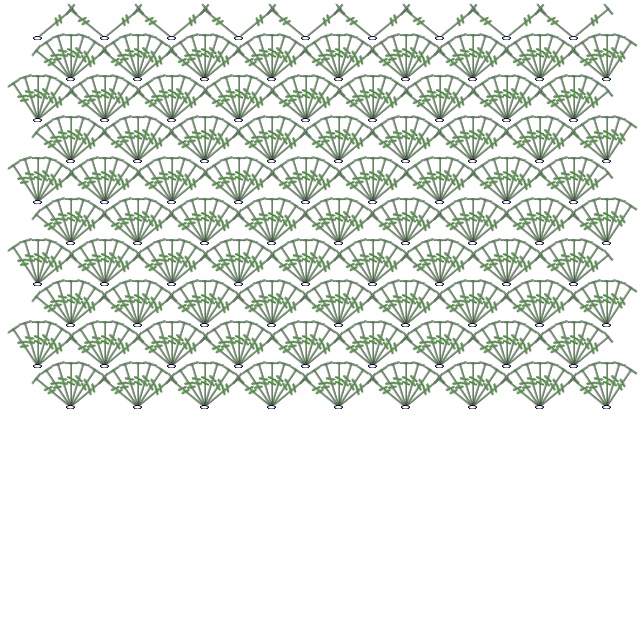chain: (32, 34, 44, 42), (166, 34, 178, 42), (300, 34, 312, 42), (434, 34, 446, 42), (568, 34, 580, 42), (132, 75, 144, 83), (266, 75, 278, 83), (400, 75, 412, 83), (534, 75, 546, 83), (32, 116, 44, 124), (166, 116, 178, 124), (300, 116, 312, 124), (434, 116, 446, 124), (568, 116, 580, 124), (132, 157, 144, 165), (266, 157, 278, 165), (400, 157, 412, 165), (534, 157, 546, 165), (32, 198, 44, 206), (166, 198, 178, 206), (300, 198, 312, 206), (434, 198, 446, 206), (568, 198, 580, 206), (132, 239, 144, 247), (266, 239, 278, 247), (400, 239, 412, 247), (534, 239, 546, 247), (32, 280, 44, 288), (166, 280, 178, 288), (300, 280, 312, 288), (434, 280, 446, 288), (568, 280, 580, 288), (132, 321, 144, 329), (266, 321, 278, 329), (400, 321, 412, 329), (534, 321, 546, 329), (32, 362, 44, 370), (166, 362, 178, 370), (300, 362, 312, 370), (434, 362, 446, 370), (568, 362, 580, 370), (132, 403, 144, 411), (266, 403, 278, 411), (400, 403, 412, 411), (534, 403, 546, 411), (100, 34, 110, 42), (234, 34, 244, 42), (368, 34, 378, 42), (502, 34, 512, 42), (66, 75, 76, 83), (200, 75, 210, 83), (334, 75, 344, 83), (468, 75, 478, 83), (602, 75, 612, 83), (100, 116, 110, 124), (234, 116, 244, 124), (368, 116, 378, 124), (502, 116, 512, 124), (66, 157, 76, 165), (200, 157, 210, 165), (334, 157, 344, 165), (468, 157, 478, 165), (602, 157, 612, 165), (100, 198, 110, 206), (234, 198, 244, 206), (368, 198, 378, 206), (502, 198, 512, 206), (66, 239, 76, 247), (200, 239, 210, 247), (334, 239, 344, 247), (468, 239, 478, 247), (602, 239, 612, 247), (100, 280, 110, 288), (234, 280, 244, 288), (368, 280, 378, 288), (502, 280, 512, 288), (66, 321, 76, 329), (200, 321, 210, 329), (334, 321, 344, 329), (468, 321, 478, 329), (602, 321, 612, 329), (100, 362, 110, 370), (234, 362, 244, 370), (368, 362, 378, 370), (502, 362, 512, 370), (66, 403, 76, 411), (200, 403, 210, 411), (334, 403, 344, 411), (468, 403, 478, 411), (602, 403, 612, 411)
fan: (33, 3, 79, 44), (64, 3, 110, 44), (100, 3, 146, 44), (131, 3, 177, 44), (167, 3, 213, 44), (198, 3, 244, 44), (234, 3, 280, 44), (265, 3, 311, 44), (301, 3, 347, 44), (332, 3, 378, 44), (368, 3, 414, 44), (399, 3, 445, 44), (435, 3, 481, 44), (466, 3, 512, 44), (502, 3, 548, 44), (533, 3, 579, 44), (569, 3, 615, 44), (30, 44, 76, 85), (66, 44, 112, 85), (97, 44, 143, 85), (133, 44, 179, 85), (164, 44, 210, 85), (200, 44, 246, 85), (231, 44, 277, 85), (267, 44, 313, 85), (298, 44, 344, 85), (334, 44, 380, 85), (365, 44, 411, 85), (401, 44, 447, 85), (432, 44, 478, 85), (468, 44, 514, 85), (499, 44, 545, 85), (535, 44, 581, 85), (566, 44, 612, 85), (33, 85, 79, 126), (64, 85, 110, 126), (100, 85, 146, 126), (131, 85, 177, 126), (167, 85, 213, 126), (198, 85, 244, 126), (234, 85, 280, 126), (265, 85, 311, 126), (301, 85, 347, 126), (332, 85, 378, 126), (368, 85, 414, 126), (399, 85, 445, 126), (435, 85, 481, 126), (466, 85, 512, 126), (502, 85, 548, 126), (533, 85, 579, 126), (569, 85, 615, 126), (30, 126, 76, 167), (66, 126, 112, 167), (97, 126, 143, 167), (133, 126, 179, 167), (164, 126, 210, 167), (200, 126, 246, 167), (231, 126, 277, 167), (267, 126, 313, 167), (298, 126, 344, 167), (334, 126, 380, 167), (365, 126, 411, 167), (401, 126, 447, 167), (432, 126, 478, 167), (468, 126, 514, 167), (499, 126, 545, 167), (535, 126, 581, 167), (566, 126, 612, 167), (33, 167, 79, 208), (64, 167, 110, 208), (100, 167, 146, 208), (131, 167, 177, 208), (167, 167, 213, 208), (198, 167, 244, 208), (234, 167, 280, 208), (265, 167, 311, 208), (301, 167, 347, 208), (332, 167, 378, 208), (368, 167, 414, 208), (399, 167, 445, 208), (435, 167, 481, 208), (466, 167, 512, 208), (502, 167, 548, 208), (533, 167, 579, 208), (569, 167, 615, 208), (30, 208, 76, 249), (66, 208, 112, 249), (97, 208, 143, 249), (133, 208, 179, 249), (164, 208, 210, 249), (200, 208, 246, 249), (231, 208, 277, 249), (267, 208, 313, 249), (298, 208, 344, 249), (334, 208, 380, 249), (365, 208, 411, 249), (401, 208, 447, 249), (432, 208, 478, 249), (468, 208, 514, 249), (499, 208, 545, 249), (535, 208, 581, 249), (566, 208, 612, 249), (33, 249, 79, 290), (64, 249, 110, 290), (100, 249, 146, 290), (131, 249, 177, 290), (167, 249, 213, 290), (198, 249, 244, 290), (234, 249, 280, 290), (265, 249, 311, 290), (301, 249, 347, 290), (332, 249, 378, 290), (368, 249, 414, 290), (399, 249, 445, 290), (435, 249, 481, 290), (466, 249, 512, 290), (502, 249, 548, 290), (533, 249, 579, 290), (569, 249, 615, 290), (30, 290, 76, 331), (66, 290, 112, 331), (97, 290, 143, 331), (133, 290, 179, 331), (164, 290, 210, 331), (200, 290, 246, 331), (231, 290, 277, 331), (267, 290, 313, 331), (298, 290, 344, 331), (334, 290, 380, 331), (365, 290, 411, 331), (401, 290, 447, 331), (432, 290, 478, 331), (468, 290, 514, 331), (499, 290, 545, 331), (535, 290, 581, 331), (566, 290, 612, 331), (33, 331, 79, 372), (64, 331, 110, 372), (100, 331, 146, 372), (131, 331, 177, 372), (167, 331, 213, 372), (198, 331, 244, 372), (234, 331, 280, 372), (265, 331, 311, 372), (301, 331, 347, 372), (332, 331, 378, 372), (368, 331, 414, 372), (399, 331, 445, 372), (435, 331, 481, 372), (466, 331, 512, 372), (502, 331, 548, 372), (533, 331, 579, 372), (569, 331, 615, 372), (30, 372, 76, 413), (66, 372, 112, 413), (97, 372, 143, 413), (133, 372, 179, 413), (164, 372, 210, 413), (200, 372, 246, 413), (231, 372, 277, 413), (267, 372, 313, 413), (298, 372, 344, 413), (334, 372, 380, 413), (365, 372, 411, 413), (401, 372, 447, 413), (432, 372, 478, 413), (468, 372, 514, 413), (499, 372, 545, 413), (535, 372, 581, 413), (566, 372, 612, 413), (39, 36, 78, 83), (64, 36, 103, 83), (106, 36, 145, 83), (131, 36, 170, 83), (173, 36, 212, 83), (198, 36, 237, 83), (240, 36, 279, 83), (265, 36, 304, 83), (307, 36, 346, 83), (332, 36, 371, 83), (374, 36, 413, 83), (399, 36, 438, 83), (441, 36, 480, 83), (466, 36, 505, 83), (508, 36, 547, 83), (533, 36, 572, 83), (575, 36, 614, 83), (600, 36, 639, 83), (6, 77, 45, 124), (31, 77, 70, 124), (73, 77, 112, 124), (98, 77, 137, 124), (140, 77, 179, 124), (165, 77, 204, 124), (207, 77, 246, 124), (232, 77, 271, 124), (274, 77, 313, 124), (299, 77, 338, 124), (341, 77, 380, 124), (366, 77, 405, 124), (408, 77, 447, 124), (433, 77, 472, 124), (475, 77, 514, 124), (500, 77, 539, 124), (542, 77, 581, 124), (567, 77, 606, 124), (39, 118, 78, 165), (64, 118, 103, 165), (106, 118, 145, 165), (131, 118, 170, 165), (173, 118, 212, 165), (198, 118, 237, 165), (240, 118, 279, 165), (265, 118, 304, 165), (307, 118, 346, 165), (332, 118, 371, 165), (374, 118, 413, 165), (399, 118, 438, 165), (441, 118, 480, 165), (466, 118, 505, 165), (508, 118, 547, 165), (533, 118, 572, 165), (575, 118, 614, 165), (600, 118, 639, 165), (6, 159, 45, 206), (31, 159, 70, 206), (73, 159, 112, 206), (98, 159, 137, 206), (140, 159, 179, 206), (165, 159, 204, 206), (207, 159, 246, 206), (232, 159, 271, 206), (274, 159, 313, 206), (299, 159, 338, 206), (341, 159, 380, 206), (366, 159, 405, 206), (408, 159, 447, 206), (433, 159, 472, 206), (475, 159, 514, 206), (500, 159, 539, 206), (542, 159, 581, 206), (567, 159, 606, 206), (39, 200, 78, 247), (64, 200, 103, 247), (106, 200, 145, 247), (131, 200, 170, 247), (173, 200, 212, 247), (198, 200, 237, 247), (240, 200, 279, 247), (265, 200, 304, 247), (307, 200, 346, 247), (332, 200, 371, 247), (374, 200, 413, 247), (399, 200, 438, 247), (441, 200, 480, 247), (466, 200, 505, 247), (508, 200, 547, 247), (533, 200, 572, 247), (575, 200, 614, 247), (600, 200, 639, 247), (6, 241, 45, 288), (31, 241, 70, 288), (73, 241, 112, 288), (98, 241, 137, 288), (140, 241, 179, 288), (165, 241, 204, 288), (207, 241, 246, 288), (232, 241, 271, 288), (274, 241, 313, 288), (299, 241, 338, 288), (341, 241, 380, 288), (366, 241, 405, 288), (408, 241, 447, 288), (433, 241, 472, 288), (475, 241, 514, 288), (500, 241, 539, 288), (542, 241, 581, 288), (567, 241, 606, 288), (39, 282, 78, 329), (64, 282, 103, 329), (106, 282, 145, 329), (131, 282, 170, 329), (173, 282, 212, 329), (198, 282, 237, 329), (240, 282, 279, 329), (265, 282, 304, 329), (307, 282, 346, 329), (332, 282, 371, 329), (374, 282, 413, 329), (399, 282, 438, 329), (441, 282, 480, 329), (466, 282, 505, 329), (508, 282, 547, 329), (533, 282, 572, 329), (575, 282, 614, 329), (600, 282, 639, 329), (6, 323, 45, 370), (31, 323, 70, 370), (73, 323, 112, 370), (98, 323, 137, 370), (140, 323, 179, 370), (165, 323, 204, 370), (207, 323, 246, 370), (232, 323, 271, 370), (274, 323, 313, 370), (299, 323, 338, 370), (341, 323, 380, 370), (366, 323, 405, 370), (408, 323, 447, 370), (433, 323, 472, 370), (475, 323, 514, 370), (500, 323, 539, 370), (542, 323, 581, 370), (567, 323, 606, 370), (39, 364, 78, 411), (64, 364, 103, 411), (106, 364, 145, 411), (131, 364, 170, 411), (173, 364, 212, 411), (198, 364, 237, 411), (240, 364, 279, 411), (265, 364, 304, 411), (307, 364, 346, 411), (332, 364, 371, 411), (374, 364, 413, 411), (399, 364, 438, 411), (441, 364, 480, 411), (466, 364, 505, 411), (508, 364, 547, 411), (533, 364, 572, 411), (575, 364, 614, 411), (600, 364, 639, 411), (50, 33, 79, 81), (63, 33, 92, 81), (117, 33, 146, 81), (130, 33, 159, 81), (184, 33, 213, 81), (197, 33, 226, 81), (251, 33, 280, 81), (264, 33, 293, 81), (318, 33, 347, 81), (331, 33, 360, 81), (385, 33, 414, 81), (398, 33, 427, 81), (452, 33, 481, 81), (465, 33, 494, 81), (519, 33, 548, 81), (532, 33, 561, 81), (586, 33, 615, 81), (599, 33, 628, 81), (17, 74, 46, 122), (30, 74, 59, 122), (84, 74, 113, 122), (97, 74, 126, 122), (151, 74, 180, 122), (164, 74, 193, 122), (218, 74, 247, 122), (231, 74, 260, 122), (285, 74, 314, 122), (298, 74, 327, 122), (352, 74, 381, 122), (365, 74, 394, 122), (419, 74, 448, 122), (432, 74, 461, 122), (486, 74, 515, 122), (499, 74, 528, 122), (553, 74, 582, 122), (566, 74, 595, 122), (50, 115, 79, 163), (63, 115, 92, 163), (117, 115, 146, 163), (130, 115, 159, 163), (184, 115, 213, 163), (197, 115, 226, 163), (251, 115, 280, 163), (264, 115, 293, 163), (318, 115, 347, 163), (331, 115, 360, 163), (385, 115, 414, 163), (398, 115, 427, 163), (452, 115, 481, 163), (465, 115, 494, 163), (519, 115, 548, 163), (532, 115, 561, 163), (586, 115, 615, 163), (599, 115, 628, 163), (17, 156, 46, 204), (30, 156, 59, 204), (84, 156, 113, 204), (97, 156, 126, 204), (151, 156, 180, 204), (164, 156, 193, 204), (218, 156, 247, 204), (231, 156, 260, 204), (285, 156, 314, 204), (298, 156, 327, 204), (352, 156, 381, 204), (365, 156, 394, 204), (419, 156, 448, 204), (432, 156, 461, 204), (486, 156, 515, 204), (499, 156, 528, 204), (553, 156, 582, 204), (566, 156, 595, 204), (50, 197, 79, 245), (63, 197, 92, 245), (117, 197, 146, 245), (130, 197, 159, 245), (184, 197, 213, 245), (197, 197, 226, 245), (251, 197, 280, 245), (264, 197, 293, 245), (318, 197, 347, 245), (331, 197, 360, 245), (385, 197, 414, 245), (398, 197, 427, 245), (452, 197, 481, 245), (465, 197, 494, 245), (519, 197, 548, 245), (532, 197, 561, 245), (586, 197, 615, 245), (599, 197, 628, 245), (17, 238, 46, 286), (30, 238, 59, 286), (84, 238, 113, 286), (97, 238, 126, 286), (151, 238, 180, 286), (164, 238, 193, 286), (218, 238, 247, 286), (231, 238, 260, 286), (285, 238, 314, 286), (298, 238, 327, 286), (352, 238, 381, 286), (365, 238, 394, 286), (419, 238, 448, 286), (432, 238, 461, 286), (486, 238, 515, 286), (499, 238, 528, 286), (553, 238, 582, 286), (566, 238, 595, 286), (50, 279, 79, 327), (63, 279, 92, 327), (117, 279, 146, 327), (130, 279, 159, 327), (184, 279, 213, 327), (197, 279, 226, 327), (251, 279, 280, 327), (264, 279, 293, 327), (318, 279, 347, 327), (331, 279, 360, 327), (385, 279, 414, 327), (398, 279, 427, 327), (452, 279, 481, 327), (465, 279, 494, 327), (519, 279, 548, 327), (532, 279, 561, 327), (586, 279, 615, 327), (599, 279, 628, 327), (17, 320, 46, 368), (30, 320, 59, 368), (84, 320, 113, 368), (97, 320, 126, 368), (151, 320, 180, 368), (164, 320, 193, 368), (218, 320, 247, 368), (231, 320, 260, 368), (285, 320, 314, 368), (298, 320, 327, 368), (352, 320, 381, 368), (365, 320, 394, 368), (419, 320, 448, 368), (432, 320, 461, 368), (486, 320, 515, 368), (499, 320, 528, 368), (553, 320, 582, 368), (566, 320, 595, 368), (50, 361, 79, 409), (63, 361, 92, 409), (117, 361, 146, 409), (130, 361, 159, 409), (184, 361, 213, 409), (197, 361, 226, 409), (251, 361, 280, 409), (264, 361, 293, 409), (318, 361, 347, 409), (331, 361, 360, 409), (385, 361, 414, 409), (398, 361, 427, 409), (452, 361, 481, 409), (465, 361, 494, 409), (519, 361, 548, 409), (532, 361, 561, 409), (586, 361, 615, 409), (599, 361, 628, 409), (63, 33, 79, 79), (130, 33, 146, 79), (197, 33, 213, 79), (264, 33, 280, 79), (331, 33, 347, 79), (398, 33, 414, 79), (465, 33, 481, 79), (532, 33, 548, 79), (599, 33, 615, 79), (30, 74, 46, 120), (97, 74, 113, 120), (164, 74, 180, 120), (231, 74, 247, 120), (298, 74, 314, 120), (365, 74, 381, 120), (432, 74, 448, 120), (499, 74, 515, 120), (566, 74, 582, 120), (63, 115, 79, 161), (130, 115, 146, 161), (197, 115, 213, 161), (264, 115, 280, 161), (331, 115, 347, 161), (398, 115, 414, 161), (465, 115, 481, 161), (532, 115, 548, 161), (599, 115, 615, 161), (30, 156, 46, 202), (97, 156, 113, 202), (164, 156, 180, 202), (231, 156, 247, 202), (298, 156, 314, 202), (365, 156, 381, 202), (432, 156, 448, 202), (499, 156, 515, 202), (566, 156, 582, 202), (63, 197, 79, 243), (130, 197, 146, 243), (197, 197, 213, 243), (264, 197, 280, 243), (331, 197, 347, 243), (398, 197, 414, 243), (465, 197, 481, 243), (532, 197, 548, 243), (599, 197, 615, 243), (30, 238, 46, 284), (97, 238, 113, 284), (164, 238, 180, 284), (231, 238, 247, 284), (298, 238, 314, 284), (365, 238, 381, 284), (432, 238, 448, 284), (499, 238, 515, 284), (566, 238, 582, 284), (63, 279, 79, 325), (130, 279, 146, 325), (197, 279, 213, 325), (264, 279, 280, 325), (331, 279, 347, 325), (398, 279, 414, 325), (465, 279, 481, 325), (532, 279, 548, 325), (599, 279, 615, 325), (30, 320, 46, 366), (97, 320, 113, 366), (164, 320, 180, 366), (231, 320, 247, 366), (298, 320, 314, 366), (365, 320, 381, 366), (432, 320, 448, 366), (499, 320, 515, 366), (566, 320, 582, 366), (63, 361, 79, 407), (130, 361, 146, 407), (197, 361, 213, 407), (264, 361, 280, 407), (331, 361, 347, 407), (398, 361, 414, 407), (465, 361, 481, 407), (532, 361, 548, 407), (599, 361, 615, 407)
